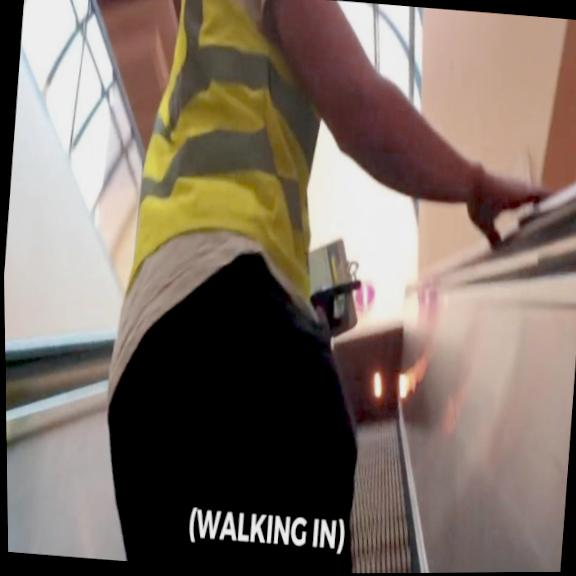safety_vest: (121, 0, 337, 305)
